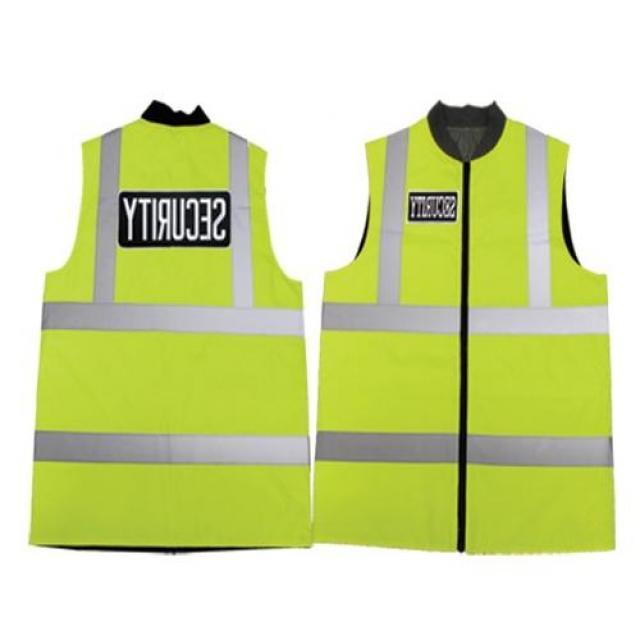reflective_jacket: (5, 84, 639, 587)
